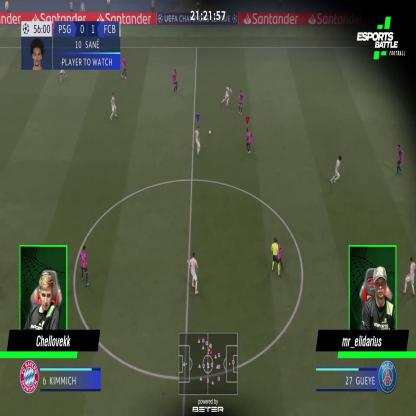ball: (208, 130, 211, 134)
